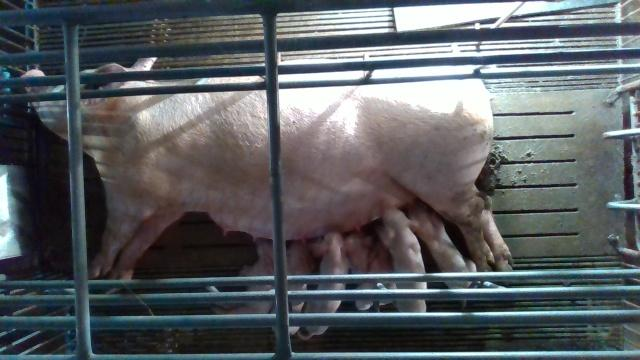piglet: (407, 202, 477, 288), (298, 232, 348, 340), (205, 239, 275, 315), (380, 206, 427, 312), (272, 240, 310, 334)
sow-sleep-lactate: (20, 58, 514, 294)
